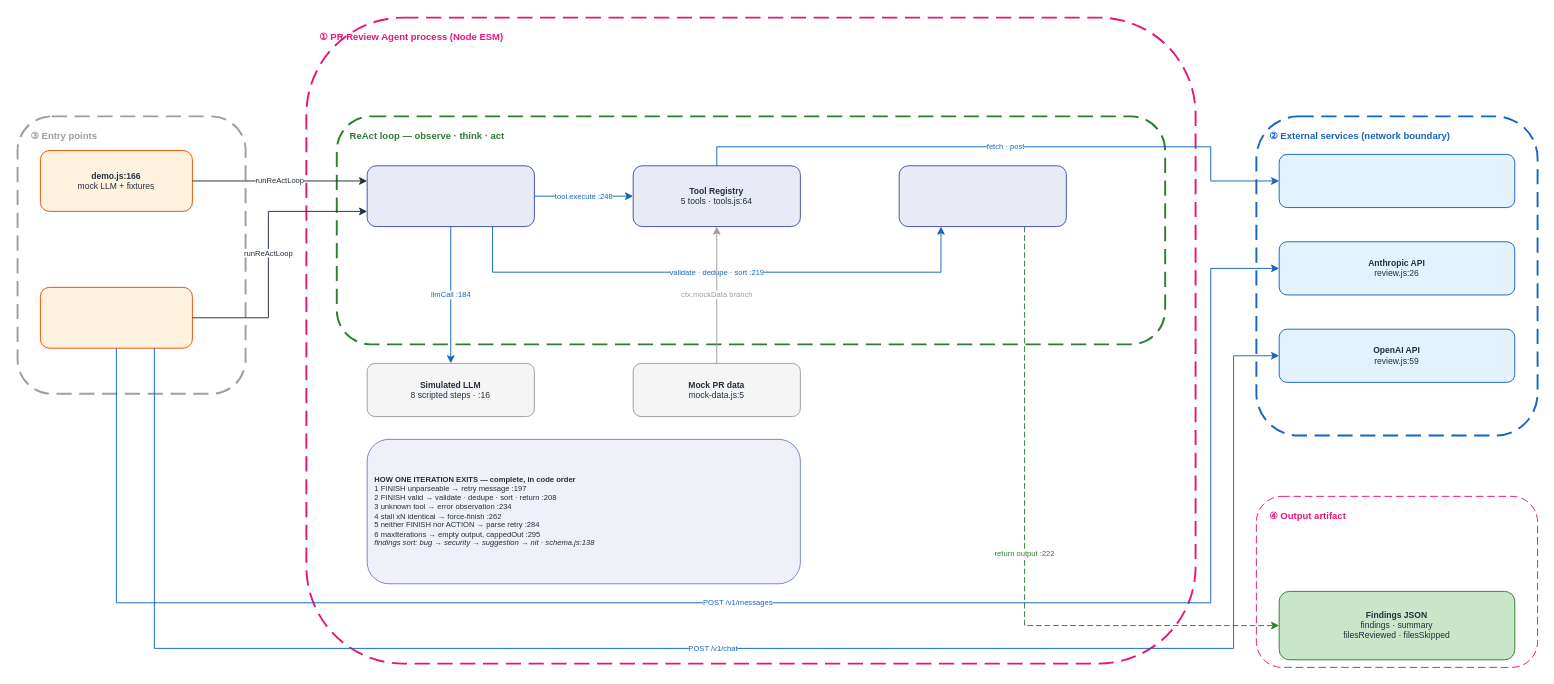
The diagram is 1554 pixels wide and 684 high, and some of its shapes have lost their labels. Here are the shapes that lost their labels. From the top down, the box of each, then its label:
(366, 165, 534, 227): runReActLoop() agent.js:157
(898, 165, 1066, 227): Schema · validate schema.js:39
(1278, 153, 1515, 208): GitHub API PR · diff · file · search · comment
(39, 286, 192, 348): review.js:87 real GitHub + LLM
